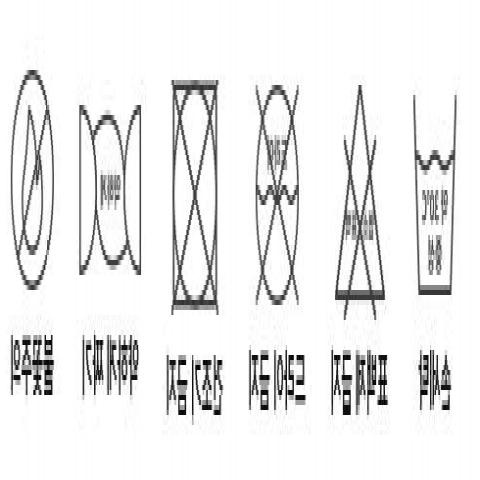30C: (398, 80, 463, 308)
DN_dry_clean: (242, 75, 305, 314)
DN_tumble_dry: (154, 76, 227, 326)
non_chlorine_bleach: (322, 83, 392, 316)
wring: (68, 98, 144, 277)
